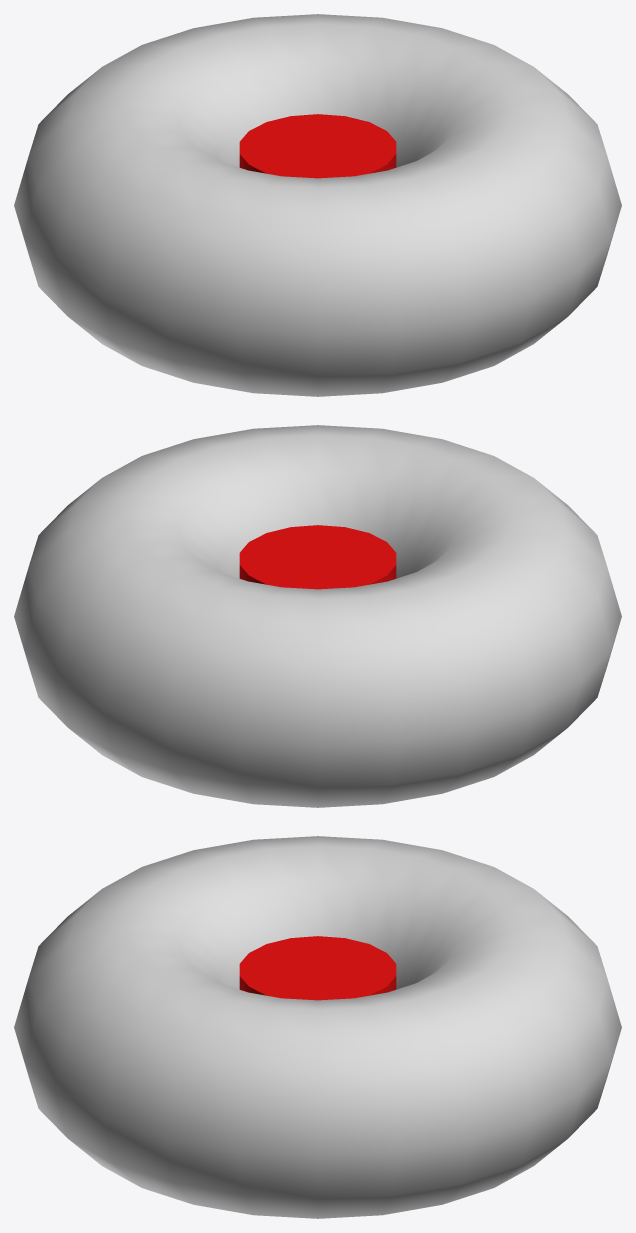
The model's file is Bouncer.FBX.
The picture shows the model from 3 angles, top to bottom: view 1: azimuth 30°, elevation 25°; view 2: azimuth 150°, elevation 25°; view 3: azimuth 270°, elevation 25°; orthographic projection.
Parts seen in each view (by area): view 1: Torus01, Cylinder01; view 2: Torus01, Cylinder01; view 3: Torus01, Cylinder01.
Boxes of the visible parts, <box> form: Torus01: <box>14,14,621,396</box>; Cylinder01: <box>239,114,396,178</box>; Torus01: <box>14,425,621,807</box>; Cylinder01: <box>239,525,396,589</box>; Torus01: <box>14,836,621,1218</box>; Cylinder01: <box>239,936,396,1000</box>.
Size of the model in its own units: 38.18 by 13.77 by 38.18.
